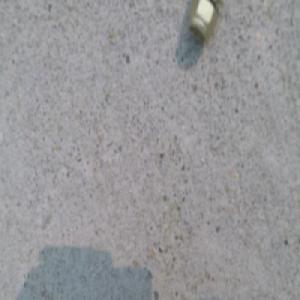BoltNutSet: (190, 0, 218, 44)
